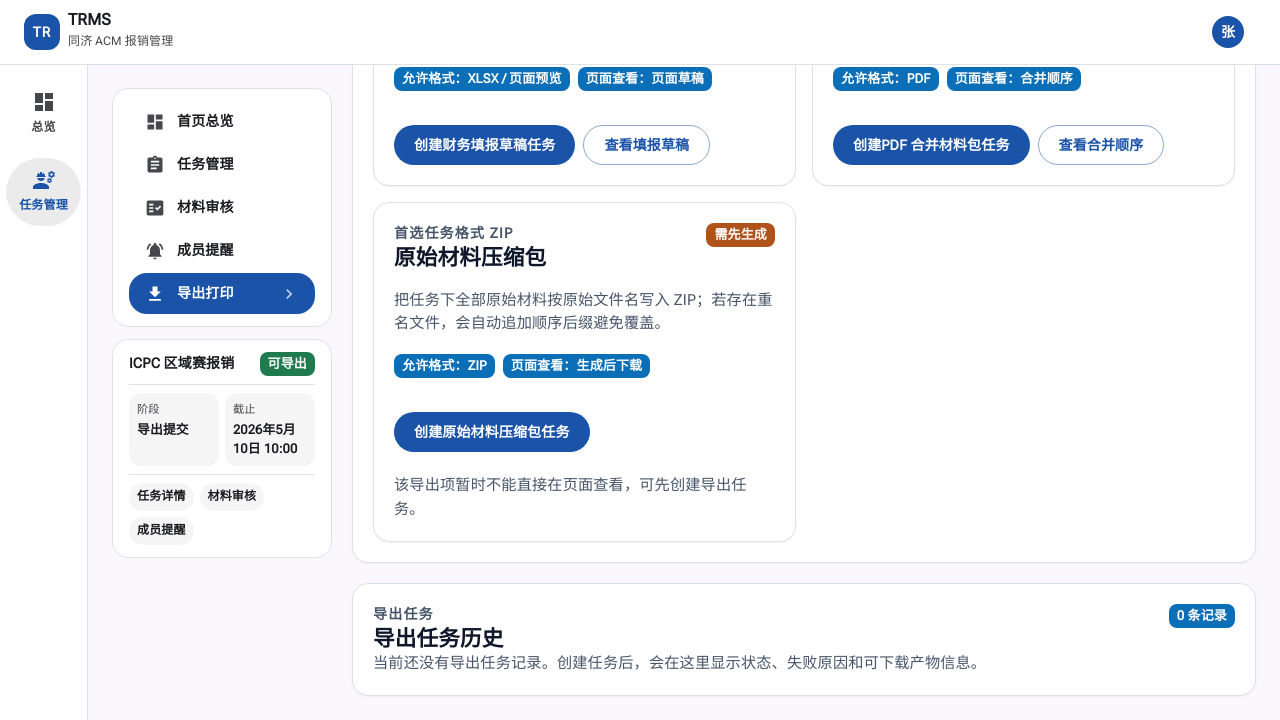
Test: admin export tasks page › allows creating original materials archive jobs from advanced export options
(page scrolled)
Expected: the element "原始材料压缩包" is shown, x1=373 y1=202 x2=796 y2=542
Expected: the text "需先生成" is shown, x1=714 y1=227 x2=767 y2=242
Click the button "创建原始材料压缩包任务" at (492, 432), box x1=394 y1=412 x2=590 y2=452
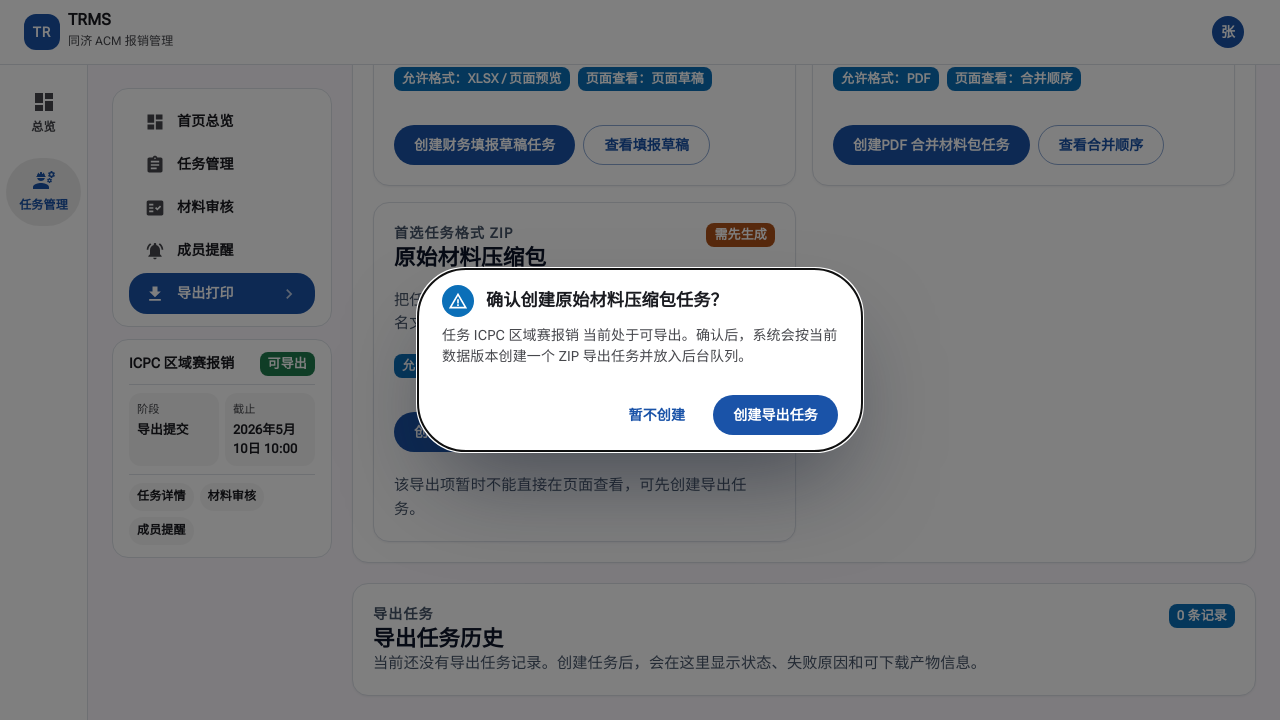
Now the text "任务 ICPC 区域赛报销 当前处于可导出。确认后，系统会按当前数据版本创建一个 ZIP 导出任务并放入后台队列。" is shown, box x1=442 y1=325 x2=838 y2=367
Click the button "创建导出任务" at (776, 415), box x1=713 y1=395 x2=838 y2=435
(page scrolled)
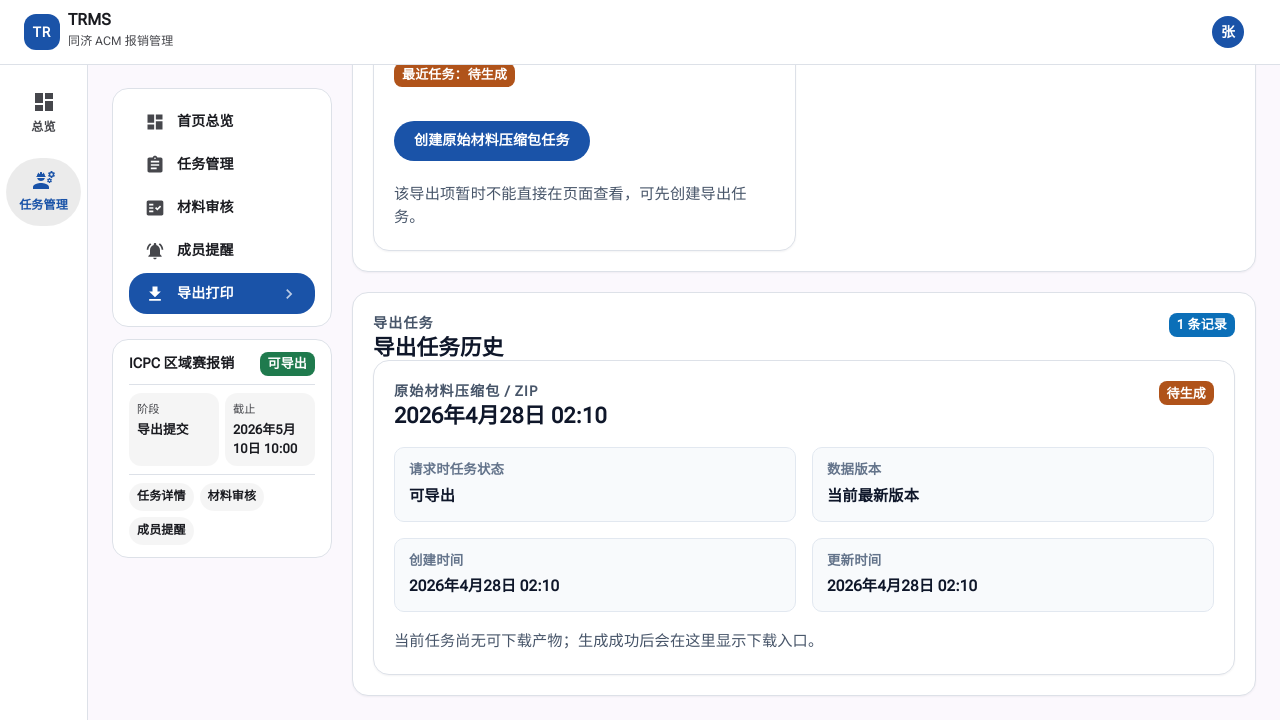
Now the dialog is gone
Now the text "原始材料压缩包 / ZIP" is shown, box x1=394 y1=383 x2=538 y2=399
